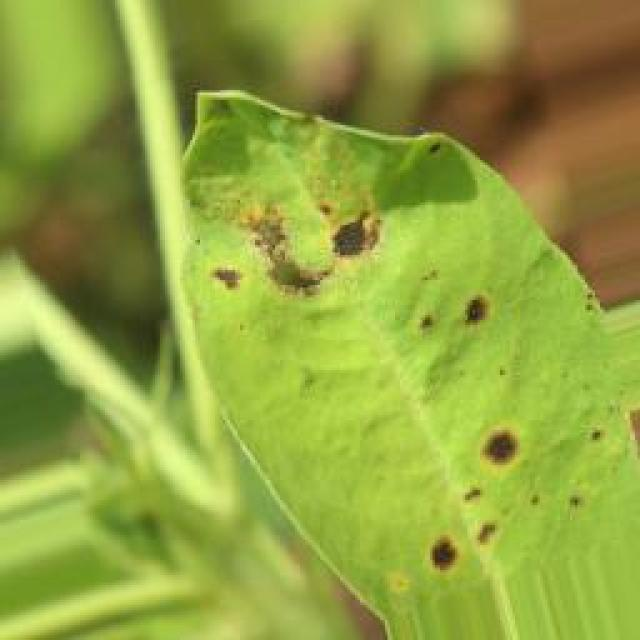Yellowish: (377, 418, 572, 586), (206, 188, 409, 327), (377, 255, 511, 363)
